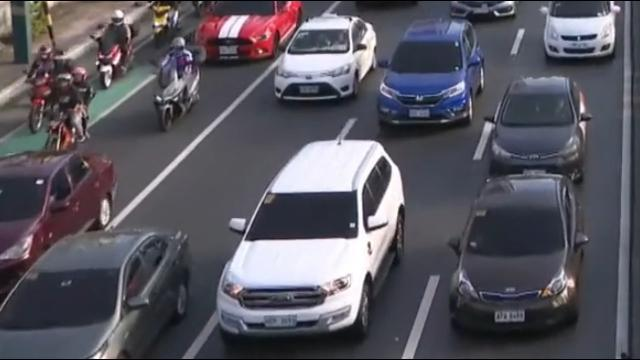car: (218, 138, 405, 347), (0, 228, 195, 360), (448, 178, 586, 329), (0, 148, 112, 283), (374, 18, 488, 126), (484, 76, 591, 180), (272, 13, 374, 105), (193, 0, 301, 65), (538, 0, 622, 63), (446, 0, 519, 22)
motorcycle: (153, 38, 201, 130), (25, 46, 71, 137), (43, 67, 92, 151), (89, 9, 139, 90), (148, 0, 182, 48)
